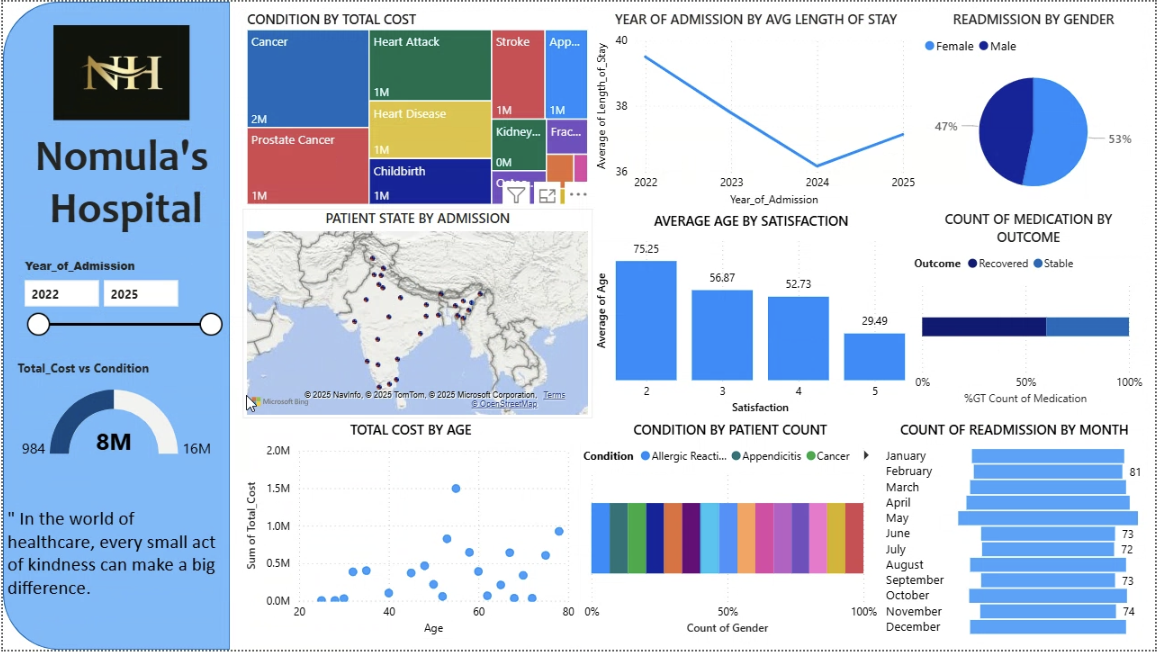

The page's visual inventory and layout, read from the dashboard file:
{"tool":"powerbi","page":{"name":"Nomula's Hospital","canvas":[1280,720],"ordinal":0},"visuals":[{"type":"barChart","title":"COUNT OF MEDICATION BY OUTCOME","fields":{"Y":["Hospital Patient.Medication "],"Series":["Hospital Patient.Outcome"]},"box":[1007.5,231.2,263.8,222.5],"z":0},{"type":"treemap","title":"CONDITION BY TOTAL COST","fields":{"Details":["Hospital Patient.Condition"],"Values":["Hospital Patient.Total_Cost"]},"box":[266.2,8.8,388.8,221.2],"z":1000},{"type":"hundredPercentStackedBarChart","title":"CONDITION BY PATIENT COUNT","fields":{"Series":["Hospital Patient.Condition"],"Y":["Hospital Patient.Gender"]},"box":[640,465,336.2,243.8],"z":2000},{"type":"lineChart","title":"YEAR OF ADMISSION BY AVG LENGTH OF STAY","fields":{"Category":["Hospital Patient.Year_of_Admission"],"Y":["Hospital Patient.Length_of_Stay"]},"box":[655.1,8.4,363.1,223.2],"z":3000},{"type":"scatterChart","title":"TOTAL COST BY AGE","fields":{"X":["Hospital Patient.Age"],"Y":["Hospital Patient.Total_Cost"]},"box":[266.2,465,373.8,243.8],"z":4000},{"type":"map","title":"PATIENT STATE BY ADMISSION","fields":{"Category":["Hospital Patient.Patient_State"],"Series":["Hospital Patient.Year_of_Admission"]},"box":[266.2,230,388.8,233.8],"z":5000},{"type":"funnel","title":"COUNT OF READMISSION BY MONTH","fields":{"Category":["Hospital Patient.Admission_Date.Variation.Date Hierarchy.Month"],"Y":["Hospital Patient.Readmission"]},"box":[976.2,465,295,243.8],"z":6000},{"type":"shape","box":[0,0,252.1,720.2],"z":7000},{"type":"textbox","box":[0,370.4,252.1,94.1],"z":8000},{"type":"slicer","fields":{"Values":["Hospital Patient.Year_of_Admission"]},"box":[11.2,280,241.2,117.5],"z":9000},{"type":"image","box":[11.2,21.2,241.2,115],"z":10000},{"type":"gauge","title":"Total_Cost vs Condition","fields":{"Y":["Hospital Patient.Total_Cost"],"MinValue":["Hospital Patient.Condition"]},"box":[11.2,397.5,230,126.2],"z":11000},{"type":"pieChart","title":"READMISSION BY GENDER","fields":{"Category":["Hospital Patient.Gender"],"Y":["Hospital Patient.Readmission"]},"box":[1018.8,8.8,252.5,222.5],"z":12000},{"type":"textbox","box":[0,136.2,252.5,130],"z":13000},{"type":"columnChart","title":"AVERAGE AGE BY SATISFACTION","fields":{"Category":["Hospital Patient.Satisfaction"],"Y":["Hospital Patient.Age"]},"box":[655,232.5,352.5,231.2],"z":14000},{"type":"textbox","box":[0,556.2,252.5,116.2],"z":15000},{"type":"textbox","box":[191.2,136.2,61.2,80],"z":16000}]}

Visuals, with their boxes in screenshot pixels (x1, y1, x2, y2), scaled from the page's 1280x720 canvas onto the 1158x652 screenshot:
"COUNT OF MEDICATION BY OUTCOME" barChart: BBox(911, 209, 1150, 411)
"CONDITION BY TOTAL COST" treemap: BBox(241, 8, 593, 208)
"CONDITION BY PATIENT COUNT" hundredPercentStackedBarChart: BBox(579, 421, 883, 642)
"YEAR OF ADMISSION BY AVG LENGTH OF STAY" lineChart: BBox(593, 8, 921, 210)
"TOTAL COST BY AGE" scatterChart: BBox(241, 421, 579, 642)
"PATIENT STATE BY ADMISSION" map: BBox(241, 208, 593, 420)
"COUNT OF READMISSION BY MONTH" funnel: BBox(883, 421, 1150, 642)
shape: BBox(0, 0, 228, 651)
textbox: BBox(0, 335, 228, 421)
slicer - Hospital Patient.Year_of_Admission: BBox(10, 254, 228, 360)
image: BBox(10, 19, 228, 123)
"Total_Cost vs Condition" gauge: BBox(10, 360, 218, 474)
"READMISSION BY GENDER" pieChart: BBox(922, 8, 1150, 209)
textbox: BBox(0, 123, 228, 241)
"AVERAGE AGE BY SATISFACTION" columnChart: BBox(593, 211, 911, 420)
textbox: BBox(0, 504, 228, 609)
textbox: BBox(173, 123, 228, 196)
